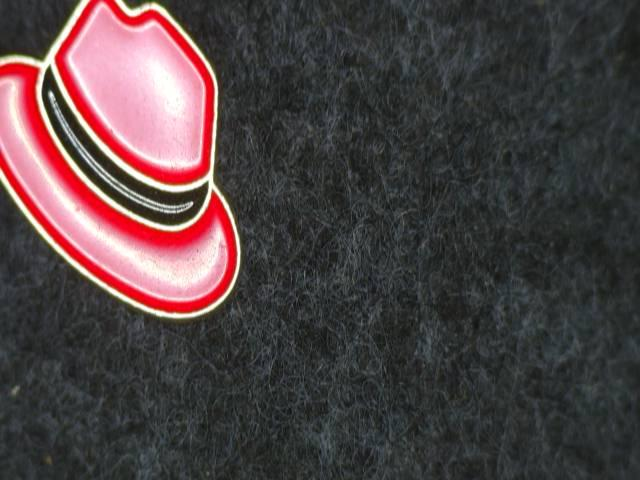Red-Hat: (0, 0, 252, 348)
